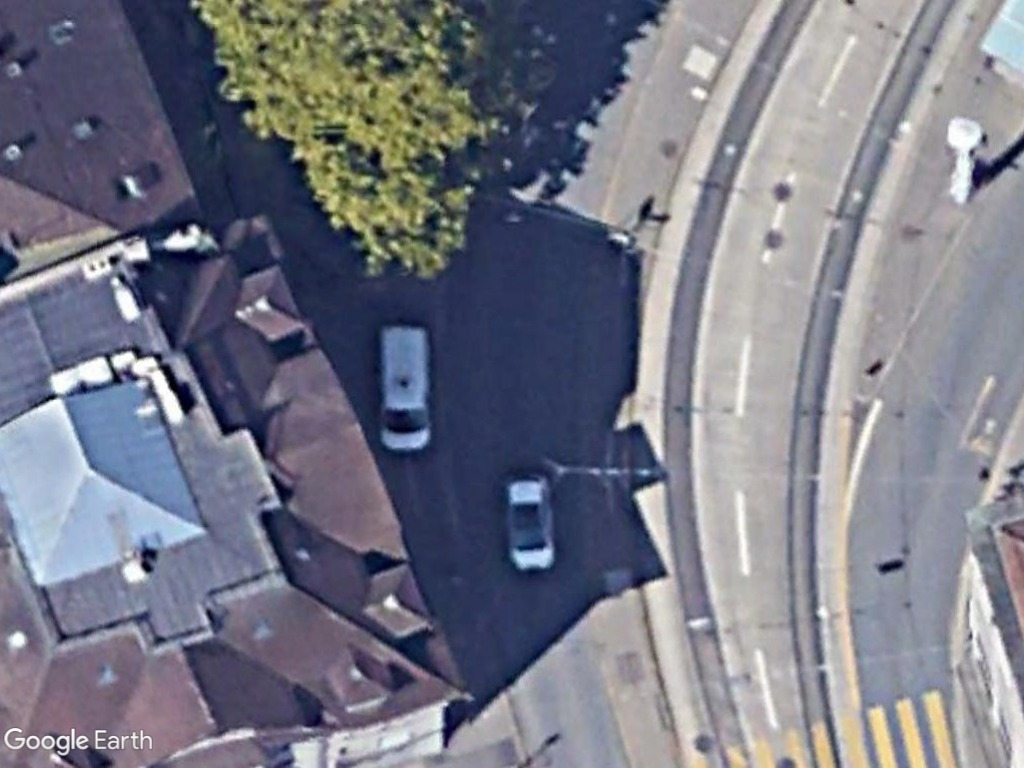car: (502, 469, 558, 574)
van: (374, 320, 434, 457)
